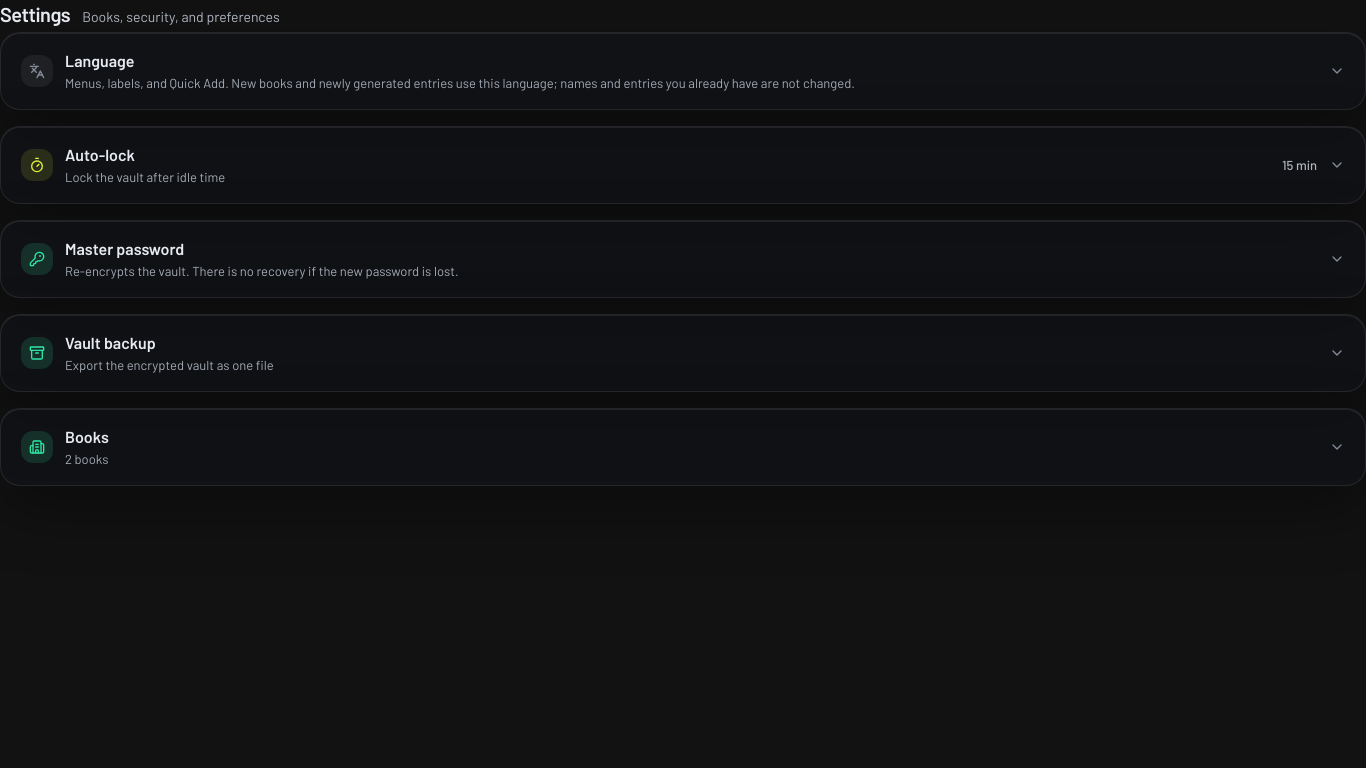
Test: SettingsPage archiving a book › confirming archives the book, reloads the books and lists it as archived
The width and height of the screenshot is (1366, 768).
Click the button "Books 2 books": {"x": 37, "y": 447} [1,409,1365,485]
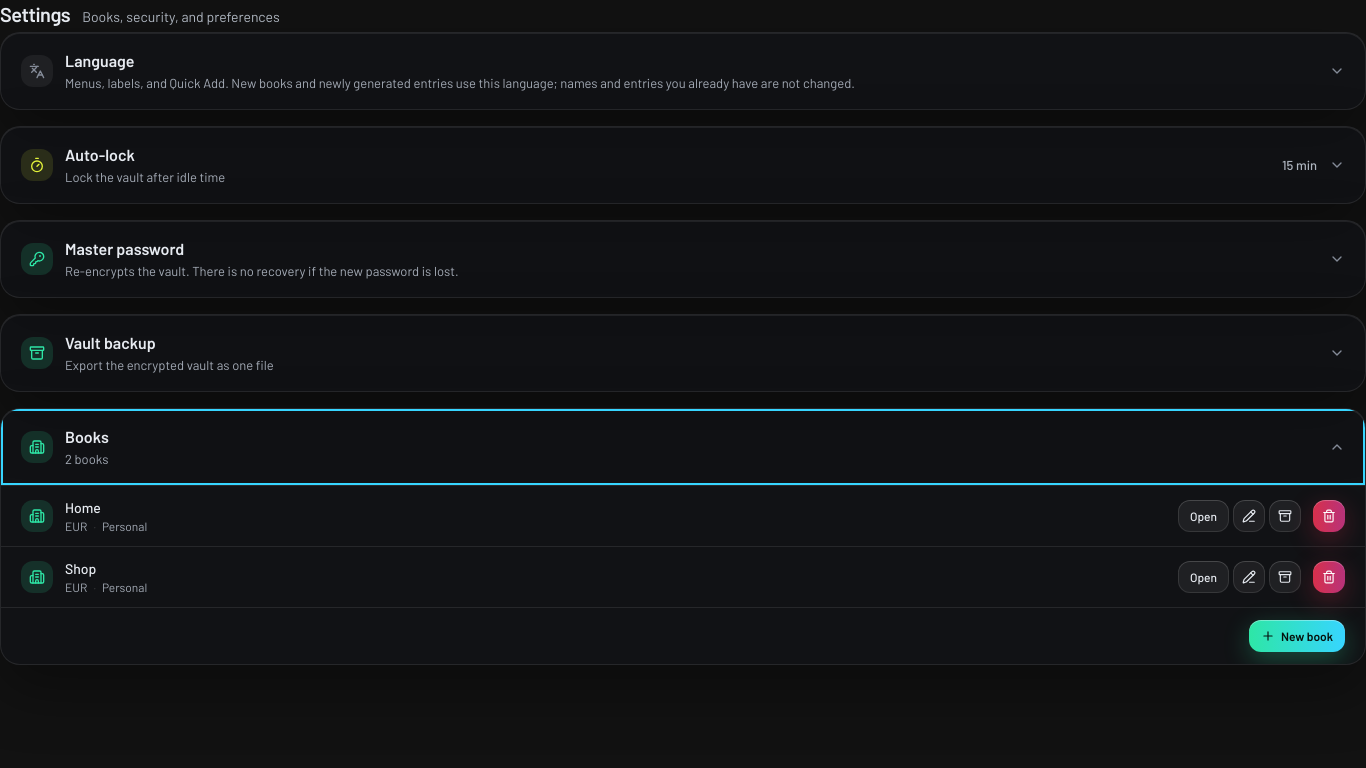
Expected: the element "Archived" is not shown
Click the button named "Archive Home": {"x": 1285, "y": 516} [1269,500,1301,532]
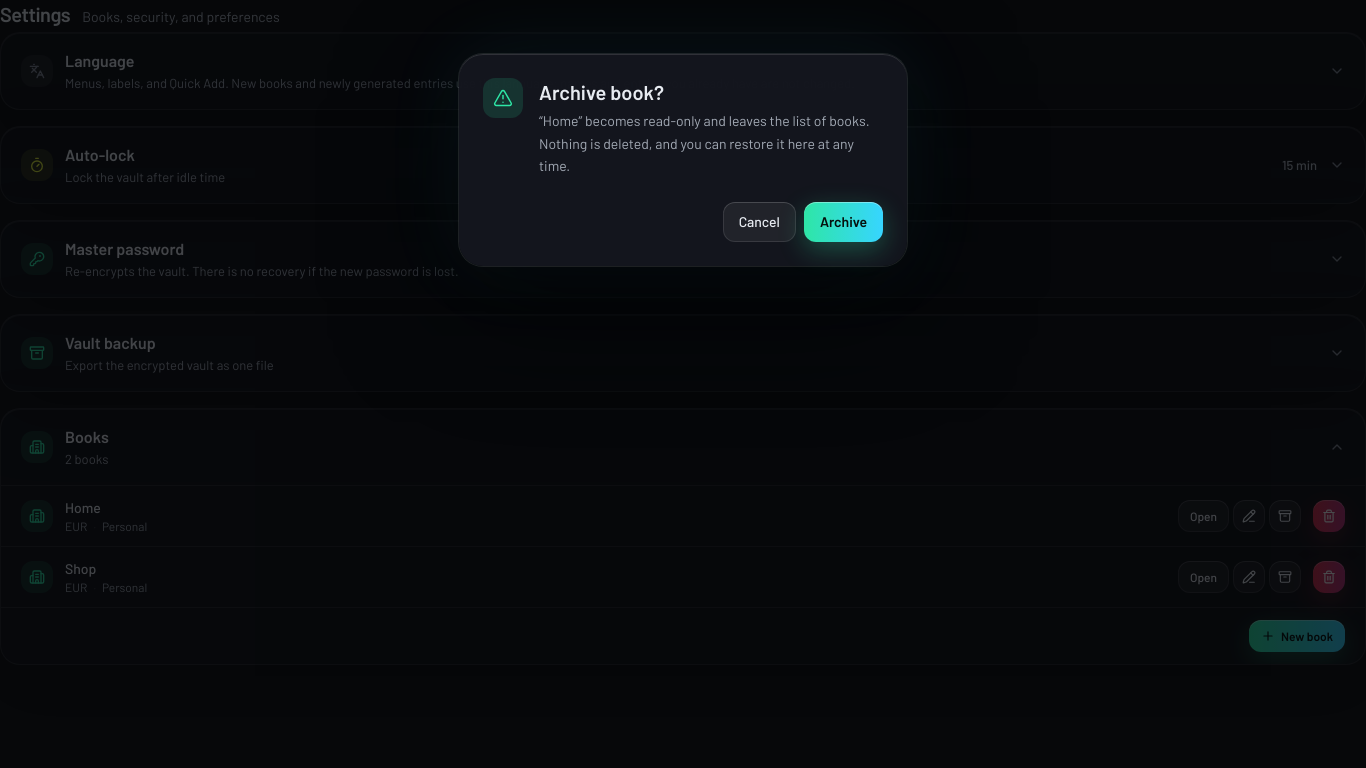
Click the button "Archive": {"x": 843, "y": 222} [804,202,883,242]
(page scrolled)
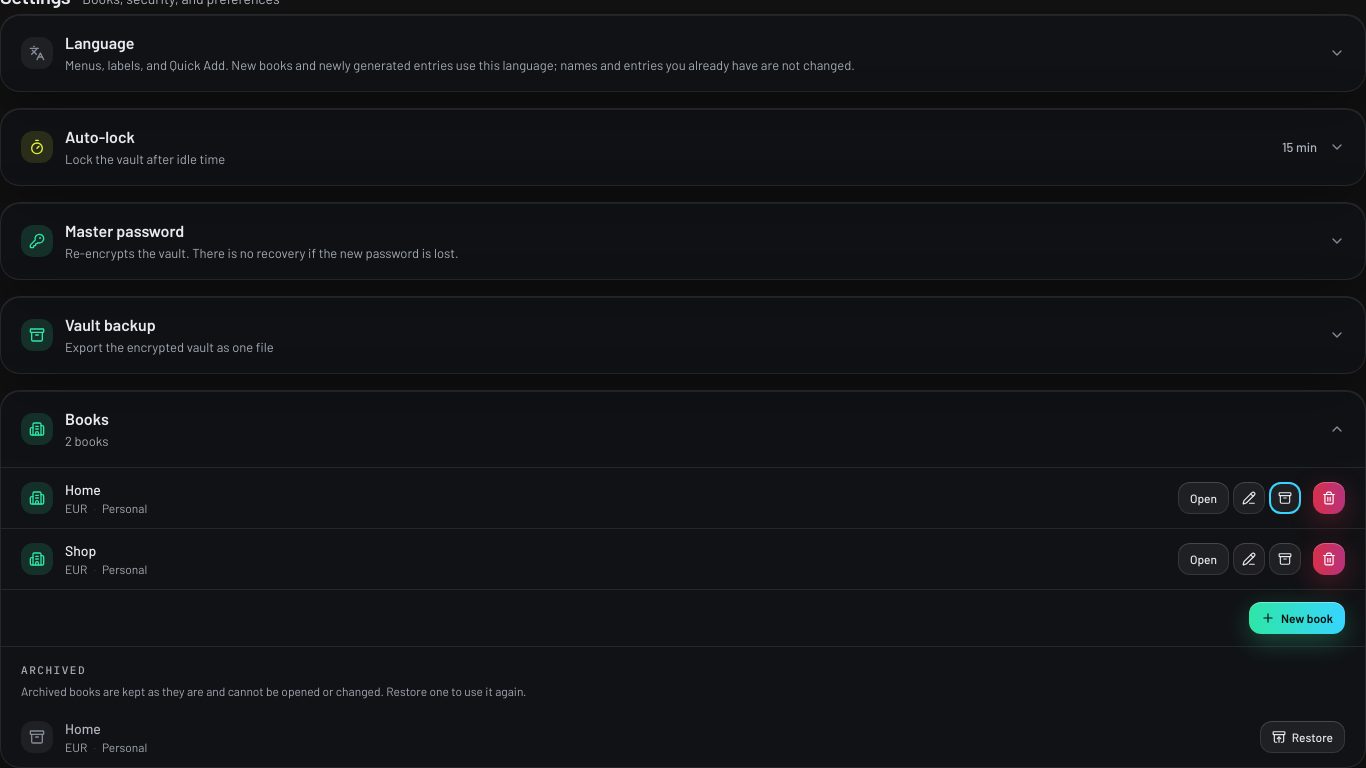
Expected: the 2nd text "Home" is shown, [65,720,101,737]
Expected: the dialog is gone
Expected: the button with aria-label "Restore Home" is enabled, [1260,721,1345,753]
